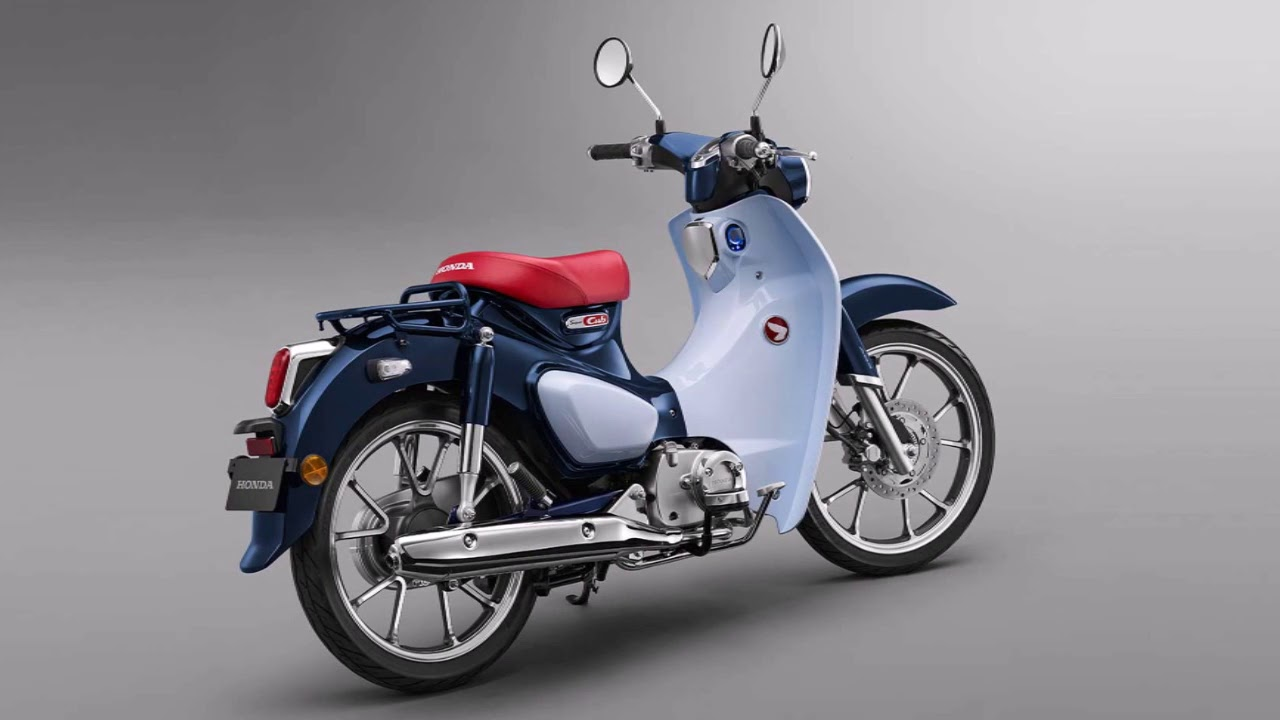motorcycle: (226, 25, 1002, 697)
